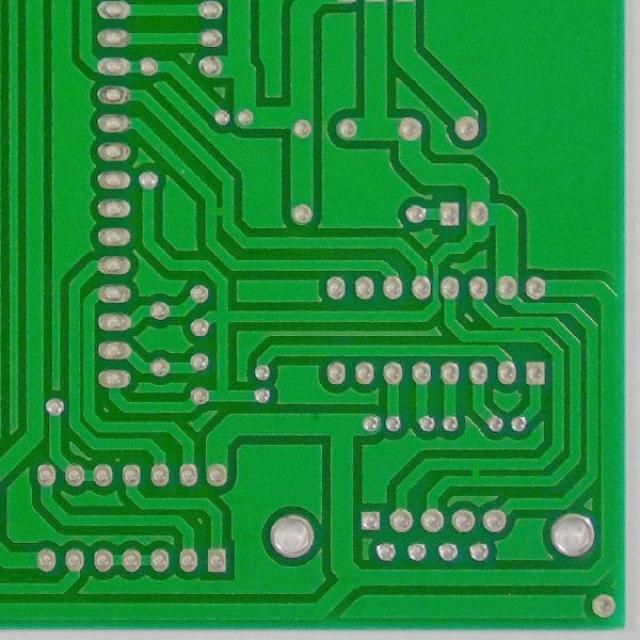Short_Circuit: (463, 456, 490, 489), (200, 199, 237, 222), (506, 314, 527, 344)
